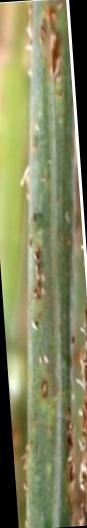Wheat: (60, 316, 87, 528), (35, 9, 68, 71), (32, 243, 53, 307), (38, 373, 56, 405)
